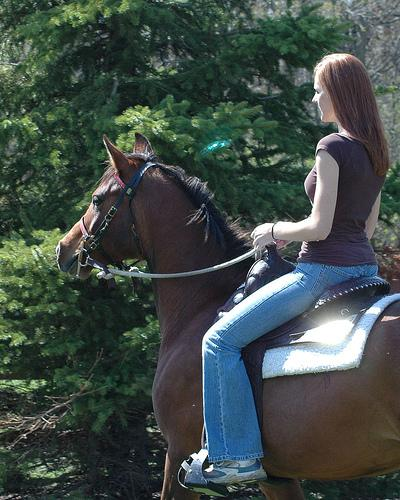person: (179, 52, 391, 490)
